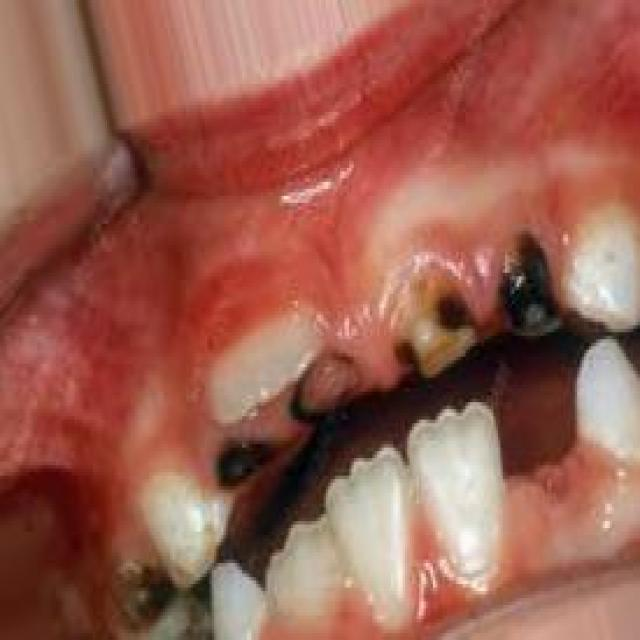caries: (388, 257, 479, 388), (100, 540, 208, 640), (489, 239, 558, 353), (196, 422, 290, 498)
